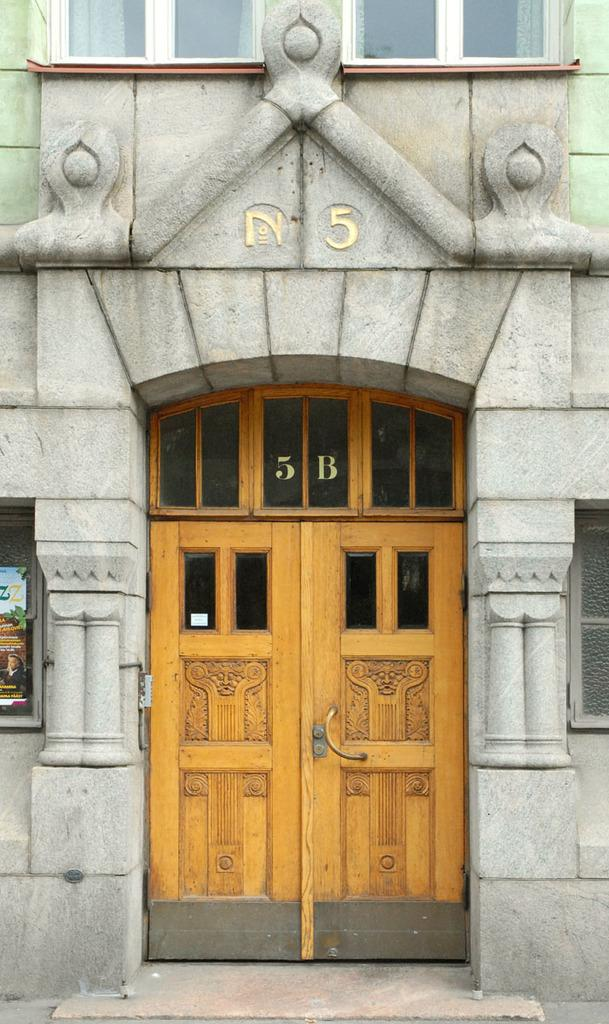handle: (326, 701, 366, 768), (312, 718, 325, 750)
